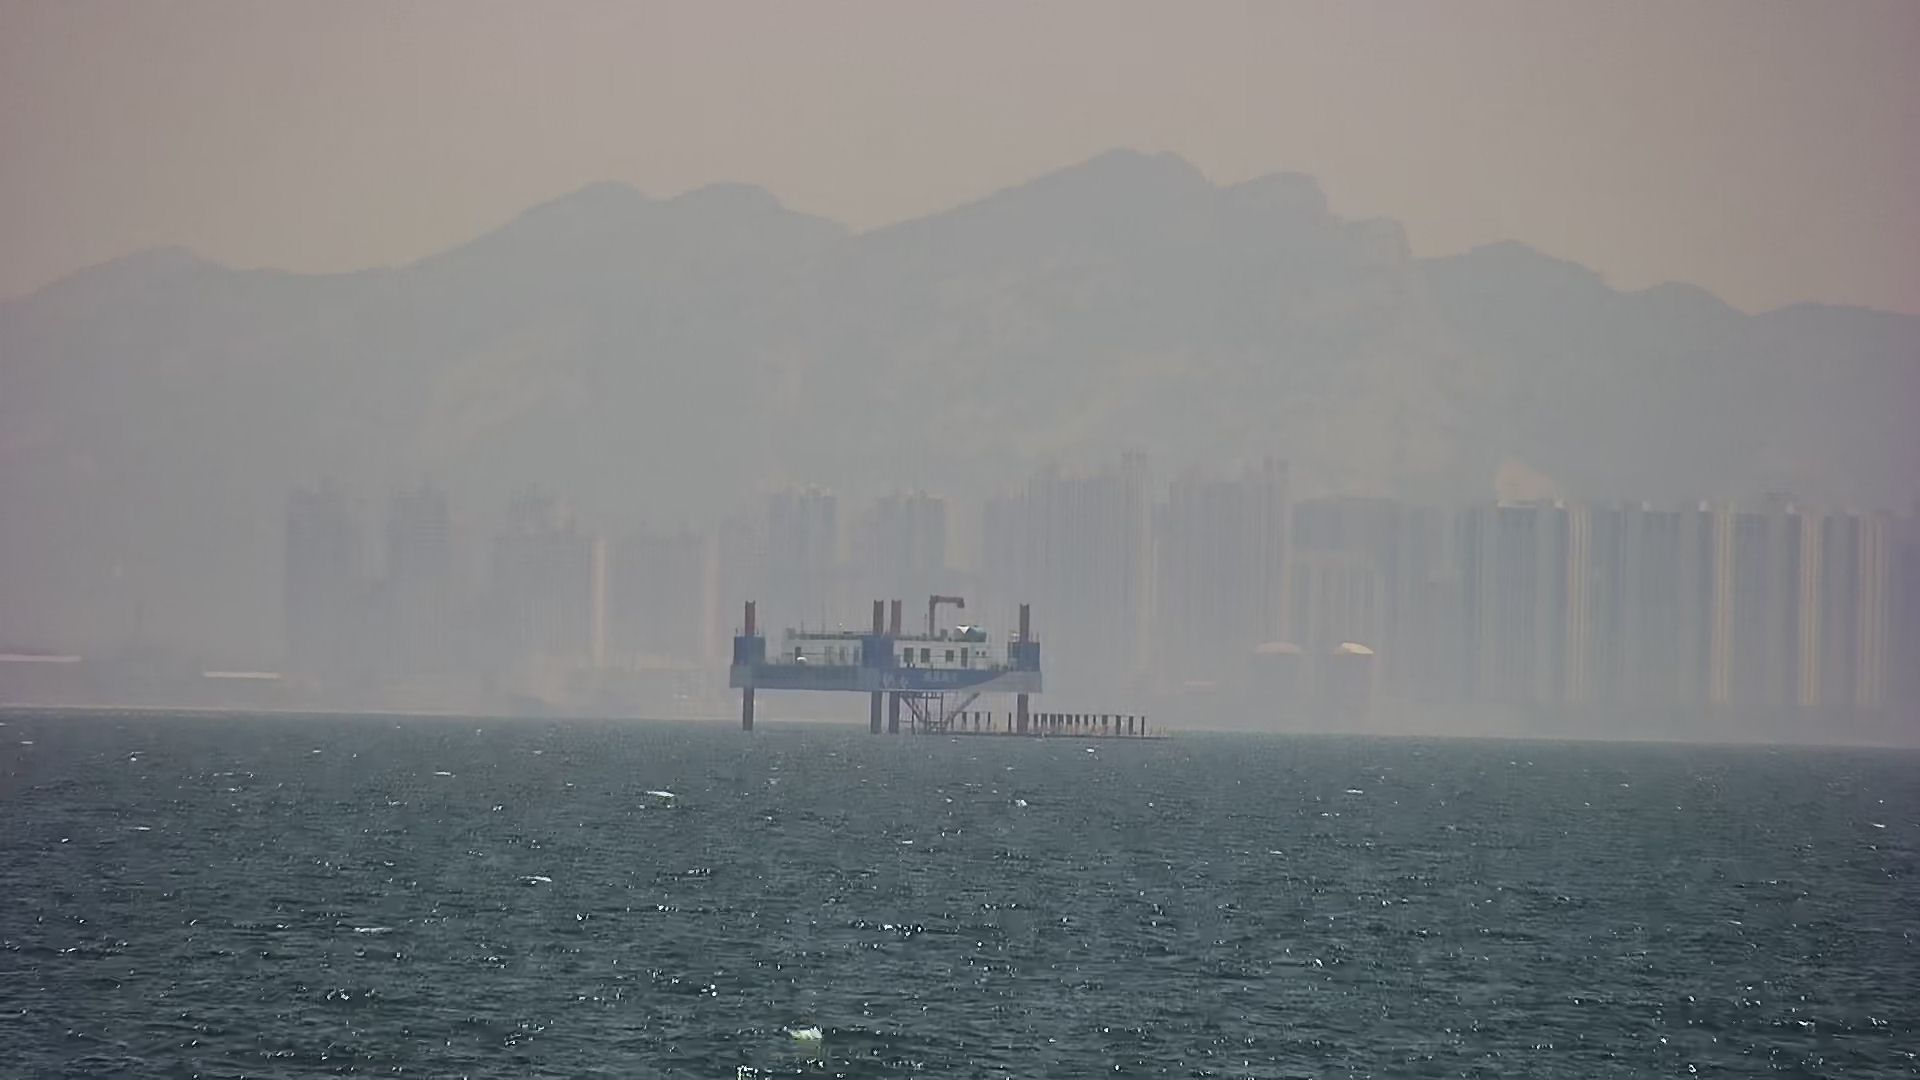platform: (727, 584, 1158, 750)
